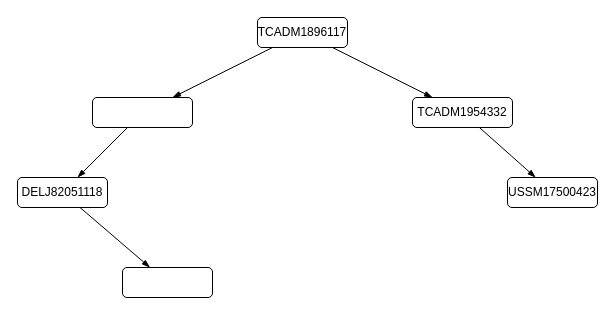
The diagram is 615 pixels wide and 315 high, and some of its shapes have lost their labels. Each missing label, with the centre of its shape:
DELP50114552: the point at 167,282
GBUM71029625: the point at 142,112
